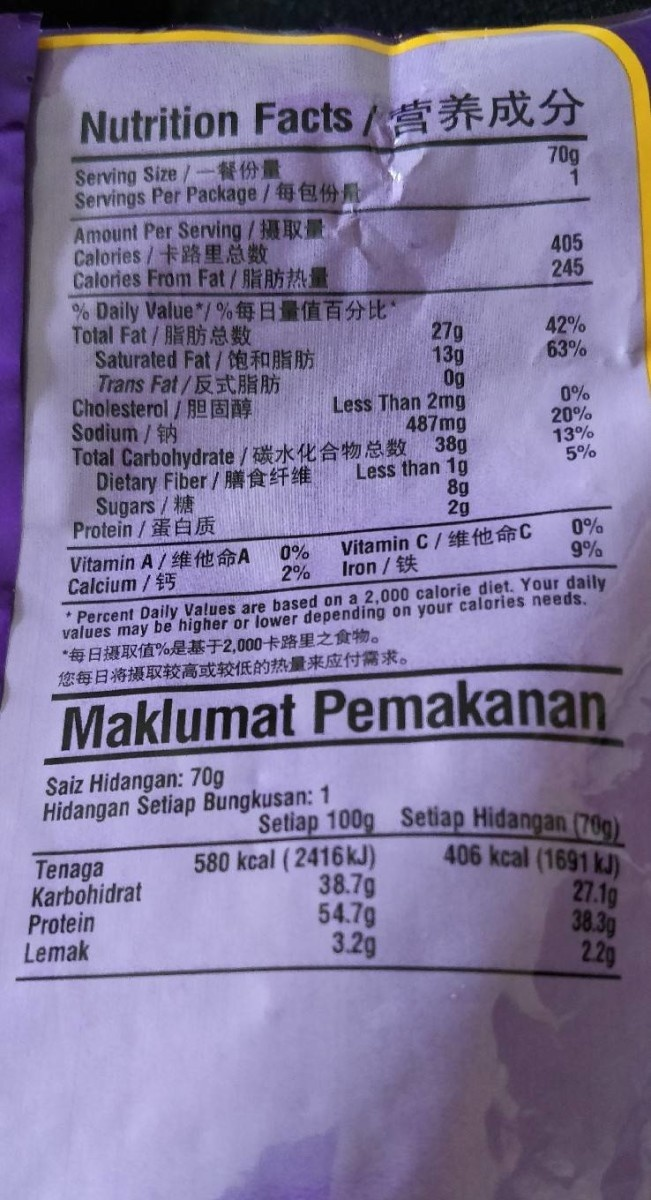column: (67, 139, 471, 536)
table: (59, 99, 595, 539), (541, 143, 590, 506)
